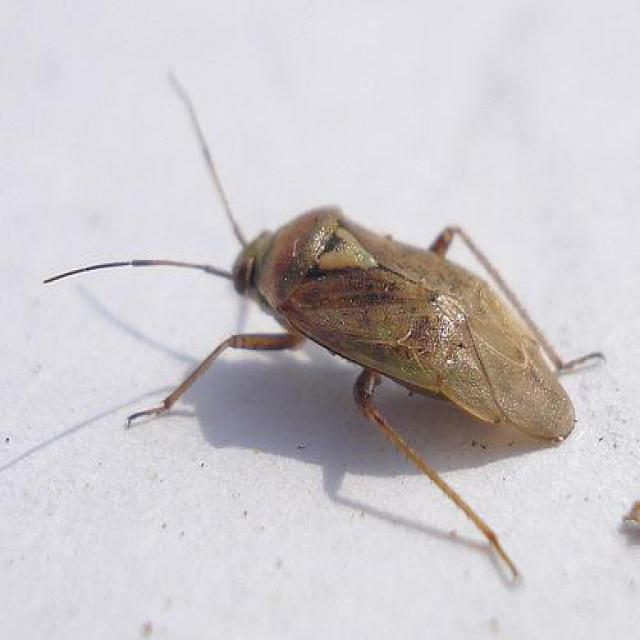Miridae-Adult-: (61, 60, 587, 508)
